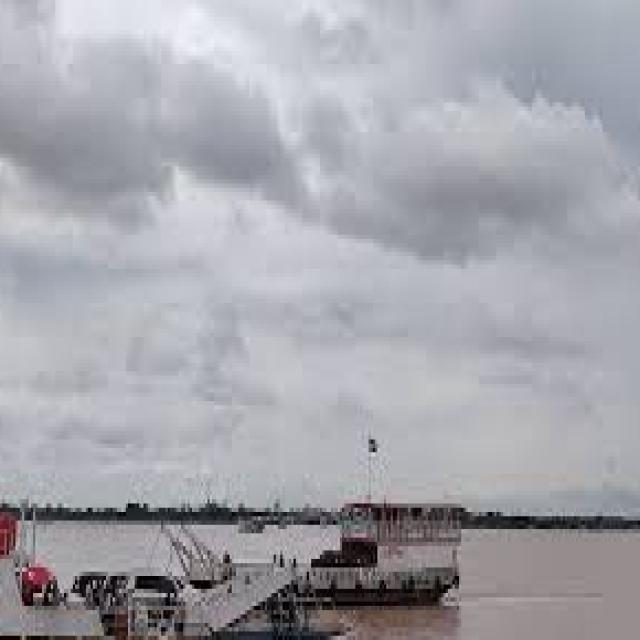houseboat: (304, 465, 470, 610)
